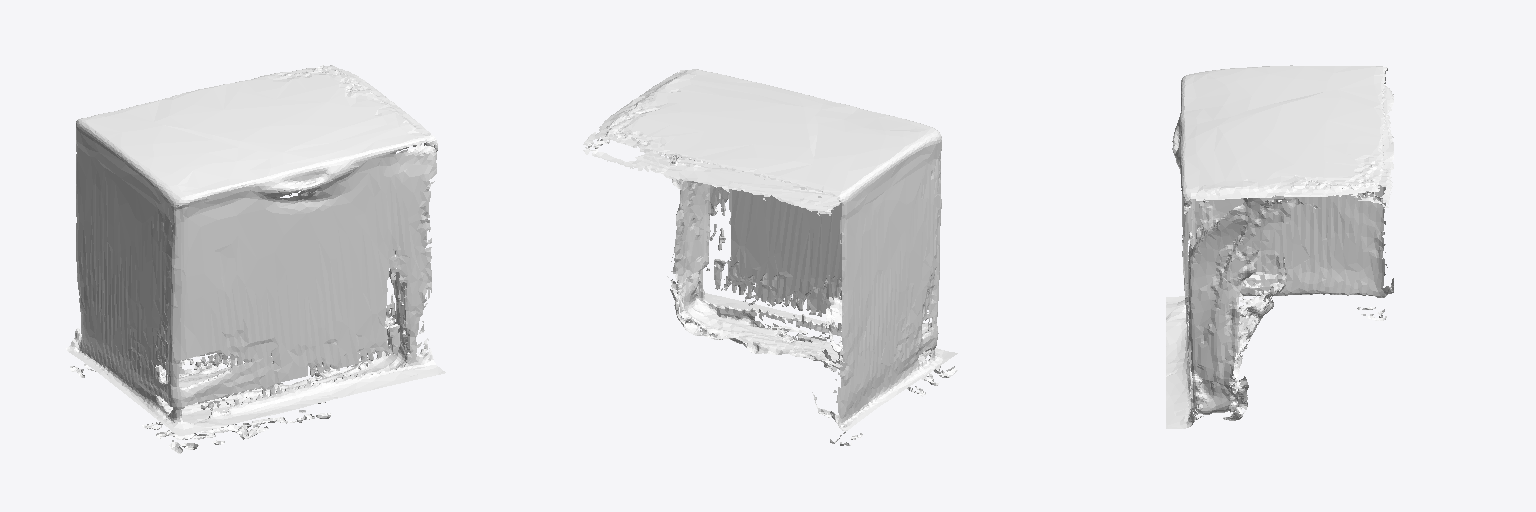
Rendered from Ice_box.obj.
The picture shows the model from 3 angles: view 1: azimuth 30°, elevation 25°; view 2: azimuth 150°, elevation 25°; view 3: azimuth 270°, elevation 25°; orthographic projection.
Parts seen in each view (by area): view 1: mesh; view 2: mesh; view 3: mesh.
Boxes of the visible parts, box(x1,y1,x2,y2) form: mesh: box(66, 65, 445, 453); mesh: box(583, 69, 957, 445); mesh: box(1166, 65, 1393, 428).
Bounding box in the file's own units: 0.9879 × 0.9245 × 0.7283.